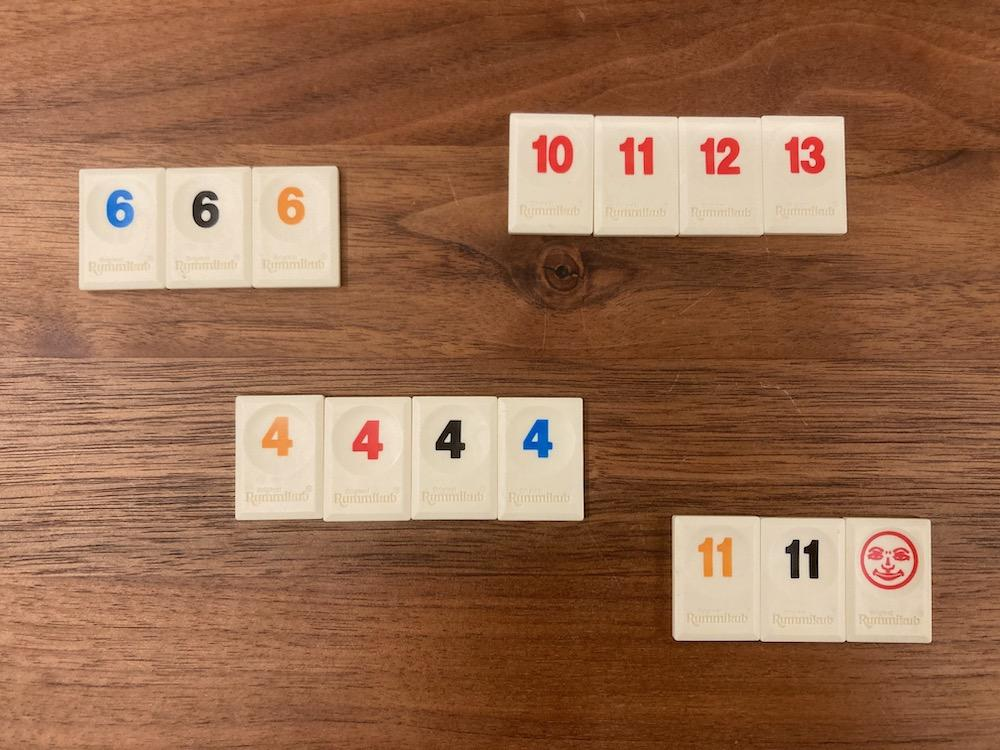black_11: (760, 518, 844, 642)
black_4: (412, 396, 498, 520)
black_6: (166, 166, 252, 289)
blue_4: (498, 398, 584, 521)
blue_6: (78, 169, 164, 289)
joker: (844, 518, 930, 643)
orange_11: (672, 516, 760, 641)
orange_4: (236, 395, 324, 519)
orange_6: (252, 166, 340, 286)
red_10: (508, 113, 594, 234)
red_11: (594, 117, 680, 236)
red_12: (678, 117, 764, 235)
red_13: (762, 115, 846, 234)
red_4: (324, 396, 412, 521)
